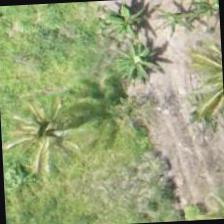Kelapa_Sawit: (0, 82, 88, 177)
